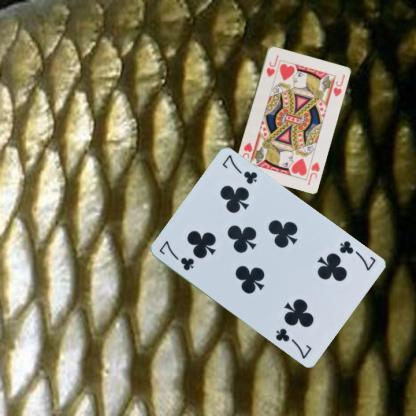7c: (336, 238, 377, 272), (156, 238, 196, 272)
Jh: (304, 160, 321, 186), (264, 52, 280, 78)
